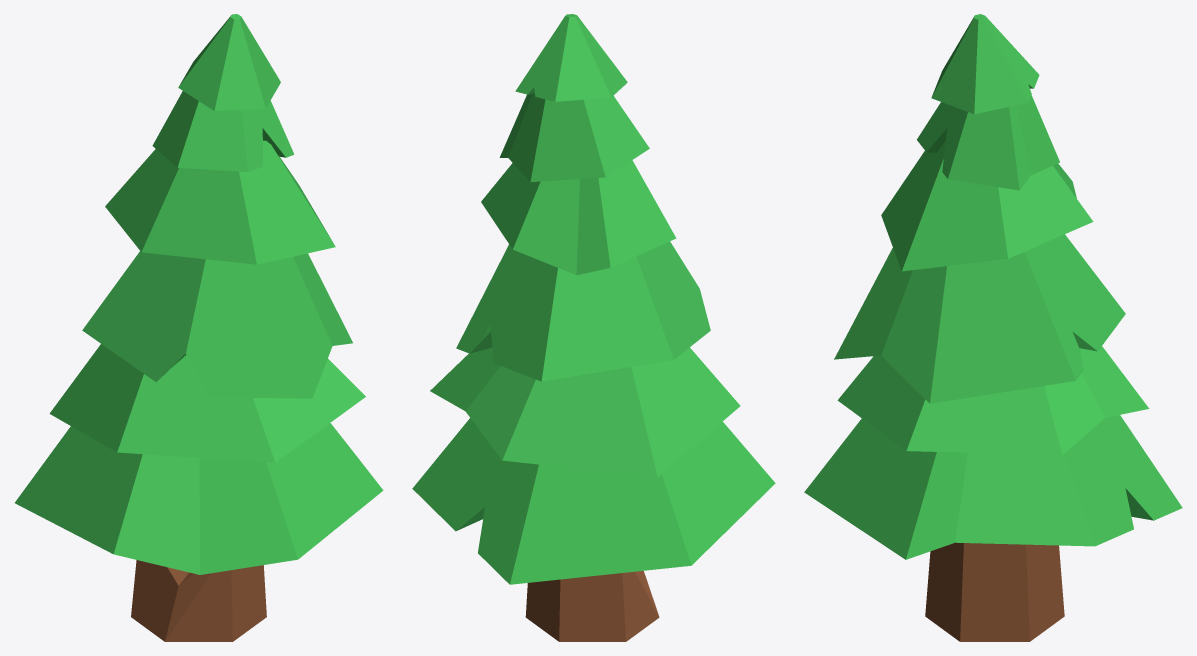
File: pinheiro3.fbx
3 views of the same model, side by side, from view 1: azimuth 30°, elevation 25°; view 2: azimuth 150°, elevation 25°; view 3: azimuth 270°, elevation 25° (orthographic). The views are drawn at different scales.
Visible parts, largest first — view 1: Cylinder.015, Cylinder.017, Cylinder.016, Cylinder.018, Cylinder.014, Cylinder.019, Cylinder.020; view 2: Cylinder.015, Cylinder.016, Cylinder.017, Cylinder.018, Cylinder.019, Cylinder.014, Cylinder.020; view 3: Cylinder.015, Cylinder.017, Cylinder.016, Cylinder.018, Cylinder.014, Cylinder.019, Cylinder.020.
Part boxes in pixels (x1,y1,x2,y2): Cylinder.015: (15, 423, 383, 574); Cylinder.017: (82, 251, 352, 398); Cylinder.016: (49, 344, 365, 462); Cylinder.018: (105, 140, 335, 264); Cylinder.014: (131, 560, 266, 641); Cylinder.019: (152, 91, 294, 171); Cylinder.020: (178, 14, 280, 110); Cylinder.015: (412, 418, 775, 584); Cylinder.016: (430, 347, 740, 477); Cylinder.017: (456, 241, 710, 381); Cylinder.018: (481, 160, 676, 275); Cylinder.019: (499, 93, 649, 182); Cylinder.014: (525, 571, 659, 641); Cylinder.020: (515, 14, 627, 101); Cylinder.015: (804, 415, 1182, 559); Cylinder.017: (834, 234, 1125, 403); Cylinder.016: (837, 346, 1149, 455); Cylinder.018: (881, 141, 1093, 271); Cylinder.014: (925, 542, 1064, 641); Cylinder.019: (917, 95, 1059, 190); Cylinder.020: (931, 14, 1039, 114).
Size of the model in its own units: 524 by 1058 by 591.
